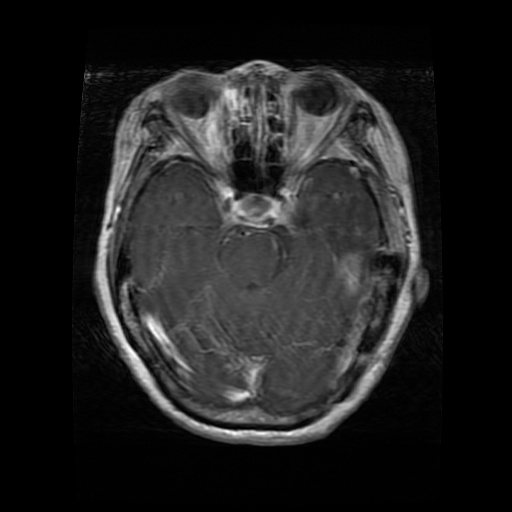glioma: (330, 241, 372, 298)
